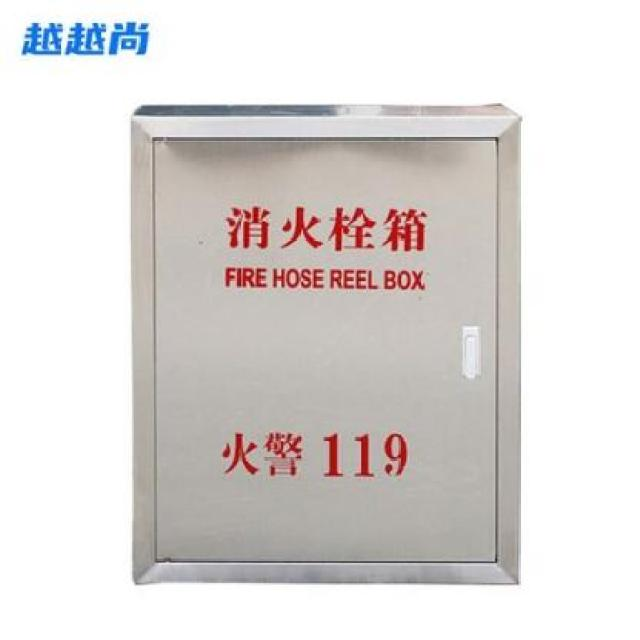firehydrant: (123, 102, 525, 596)
